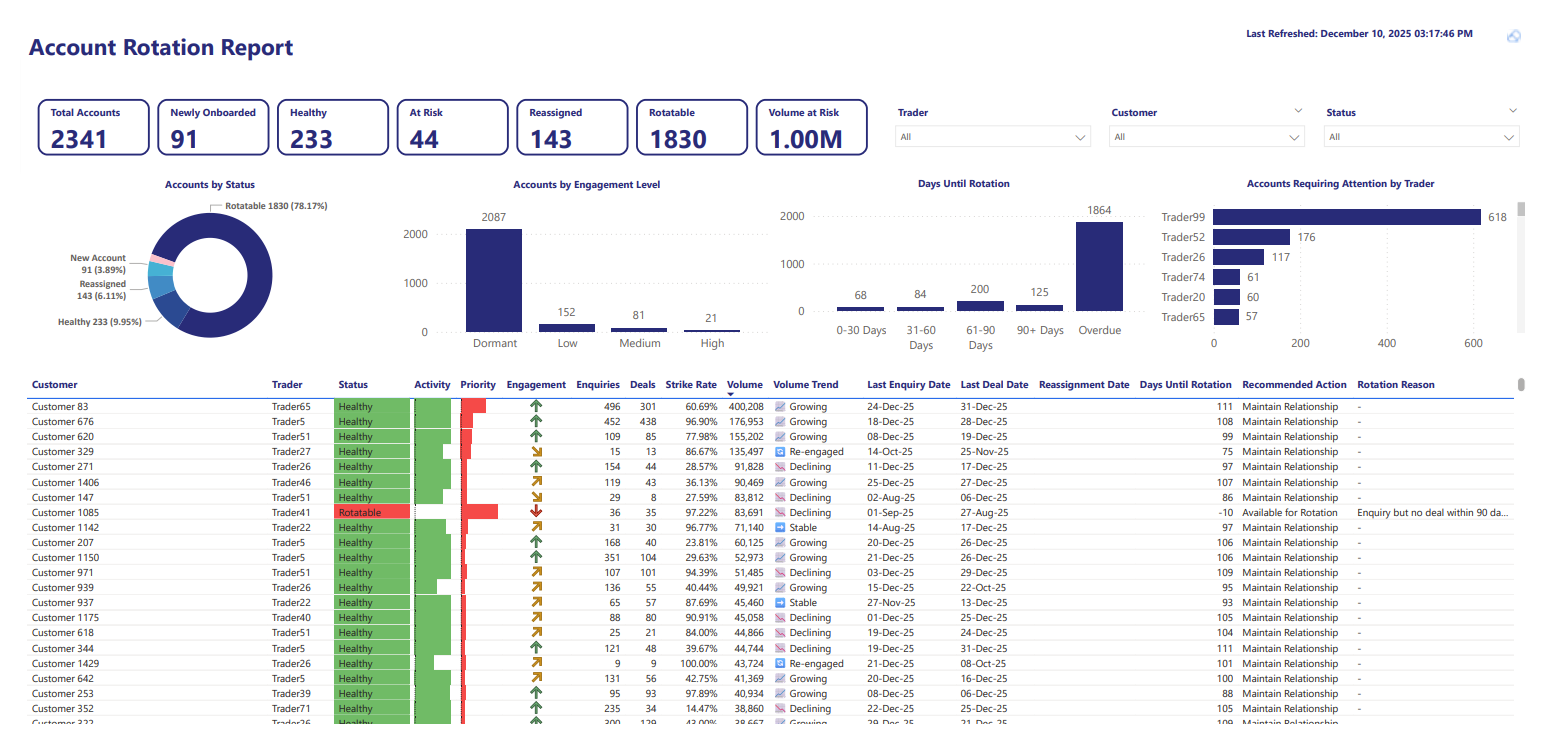

What the dashboard file says about the page in this screenshot:
{"tool":"powerbi","page":{"name":"Account Rotation","canvas":[1600,750],"ordinal":0},"visuals":[{"type":"cardVisual","title":"KPIs","fields":{"Data":["Measure Table.Total Customers","Measure Table.Total_Onboarded_Customers","Measure Table.Healthy Accounts","Measure Table.At Risk Accounts","Measure Table.Recently Reassigned Accounts","Measure Table.Rotatable Accounts","Measure Table.Volume at Risk"]},"box":[0,65.7,916.7,94.1],"z":0},{"type":"card","fields":{"Values":["Measure Table.Customer Report Title"]},"box":[0,0,296,56],"z":2000},{"type":"card","fields":{"Values":["Measure Table.Last Refreshed Display"]},"box":[1272,0,295.8,32.2],"z":3000},{"type":"actionButton","box":[1567.8,0,32.2,32.2],"z":4000},{"type":"slicer","fields":{"Values":["Customers Lookup.Trader"]},"box":[916.7,84.3,228,55.9],"z":5000},{"type":"slicer","fields":{"Values":["Customers Lookup.Customer Name"]},"box":[1144.1,84.3,228,55.9],"z":6000},{"type":"donutChart","title":"Accounts by Status","fields":{"Category":["Customers Lookup.Unified Status"],"Y":["Measure Table.Total Accounts"]},"box":[0,159.8,400,200],"z":7000},{"type":"clusteredBarChart","title":"Accounts Requiring Attention by Trader","fields":{"Category":["Customers Lookup.Trader"],"Y":["Measure Table.Rotatable by Trader"]},"box":[1200,158.8,400,201.2],"z":8000},{"type":"clusteredColumnChart","title":"Accounts by Engagement Level","fields":{"Category":["Customers Lookup.Engagement Level Column"],"Y":["Measure Table.Total Accounts"]},"box":[400,160,400,200],"z":9000},{"type":"tableEx","title":"Top 100 Customers","fields":{"Values":["Customers Lookup.Customer Name","Customers Lookup.Trader","Customers Lookup.Unified Status","Measure Table.Activity Score","Measure Table.Priority Score","Measure Table.Engagement Level","Measure Table.Total Enquiries","Measure Table.Total Deals","Measure Table.Strike Rate","Measure Table.Volume Fixed","Measure Table.Volume Trend","Measure Table.Last Enquiry Date"]},"box":[0,372.5,1601.2,377.5],"z":10000},{"type":"slicer","fields":{"Values":["Customers Lookup.Unified Status"]},"box":[1371.6,84.3,228.4,55.9],"z":11000},{"type":"clusteredColumnChart","title":"Days Until Rotation","fields":{"Category":["Customers Lookup.Rotation Urgency Column"],"Y":["Measure Table.Total Accounts"]},"box":[800,158.8,400,200],"z":12000}]}

Visuals, with their boxes in screenshot pixels (x1, y1, x2, y2), scaled from the page's 1600x750 canvas onto the 1553x747 screenshot:
"KPIs" cardVisual: box(0, 65, 890, 159)
card - Measure Table.Customer Report Title: box(0, 0, 287, 56)
card - Measure Table.Last Refreshed Display: box(1235, 0, 1522, 32)
actionButton: box(1522, 0, 1552, 32)
slicer - Customers Lookup.Trader: box(890, 84, 1111, 140)
slicer - Customers Lookup.Customer Name: box(1110, 84, 1332, 140)
"Accounts by Status" donutChart: box(0, 159, 388, 358)
"Accounts Requiring Attention by Trader" clusteredBarChart: box(1165, 158, 1552, 359)
"Accounts by Engagement Level" clusteredColumnChart: box(388, 159, 776, 359)
"Top 100 Customers" tableEx: box(0, 371, 1552, 746)
slicer - Customers Lookup.Unified Status: box(1331, 84, 1552, 140)
"Days Until Rotation" clusteredColumnChart: box(776, 158, 1165, 357)
